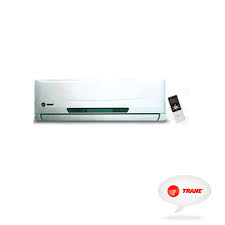ac: (33, 75, 171, 125)
